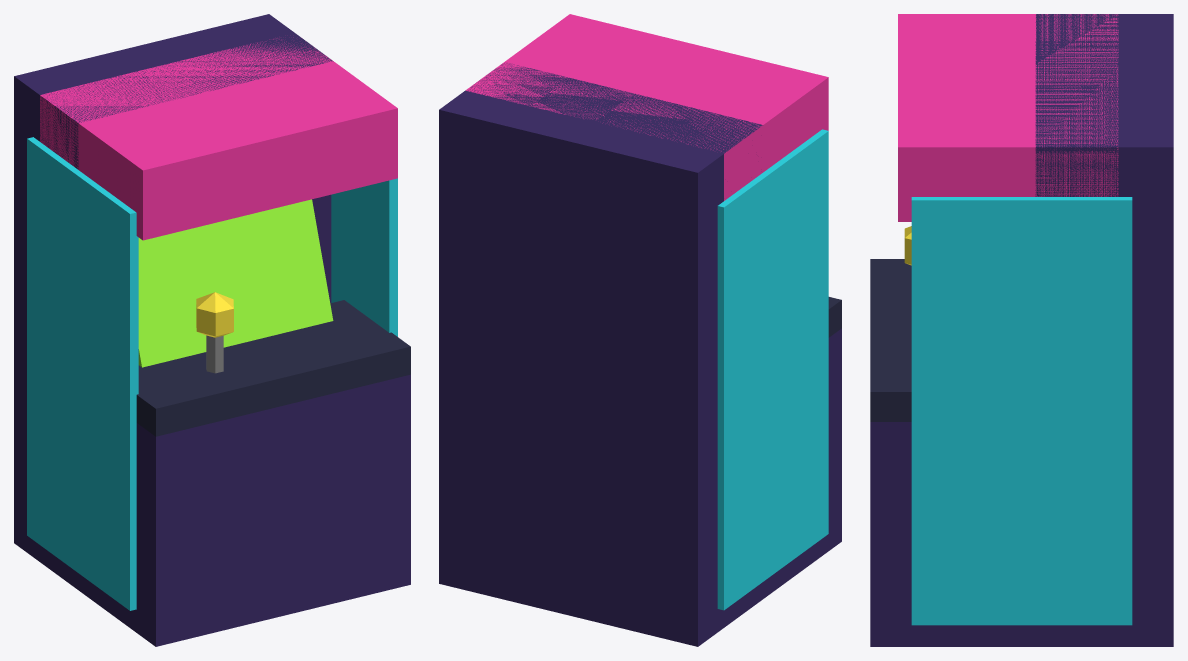
Rendered from env_r8_arcade_cabinet.glb.
The picture shows the model from 3 angles, left to right: view 1: azimuth 30°, elevation 25°; view 2: azimuth 150°, elevation 25°; view 3: azimuth 270°, elevation 25°; orthographic projection. The views are drawn at different scales.
Parts seen in each view (by area): view 1: env_r8_arcade_cabinet; view 2: env_r8_arcade_cabinet; view 3: env_r8_arcade_cabinet.
Part boxes in pixels (bbox=[...]): env_r8_arcade_cabinet: bbox=[14, 14, 410, 646]; env_r8_arcade_cabinet: bbox=[439, 14, 841, 646]; env_r8_arcade_cabinet: bbox=[870, 14, 1173, 646].
Bounding box in the file's own units: 1.2 × 2 × 1.1.
Materials: 1 (1 with a texture image).
